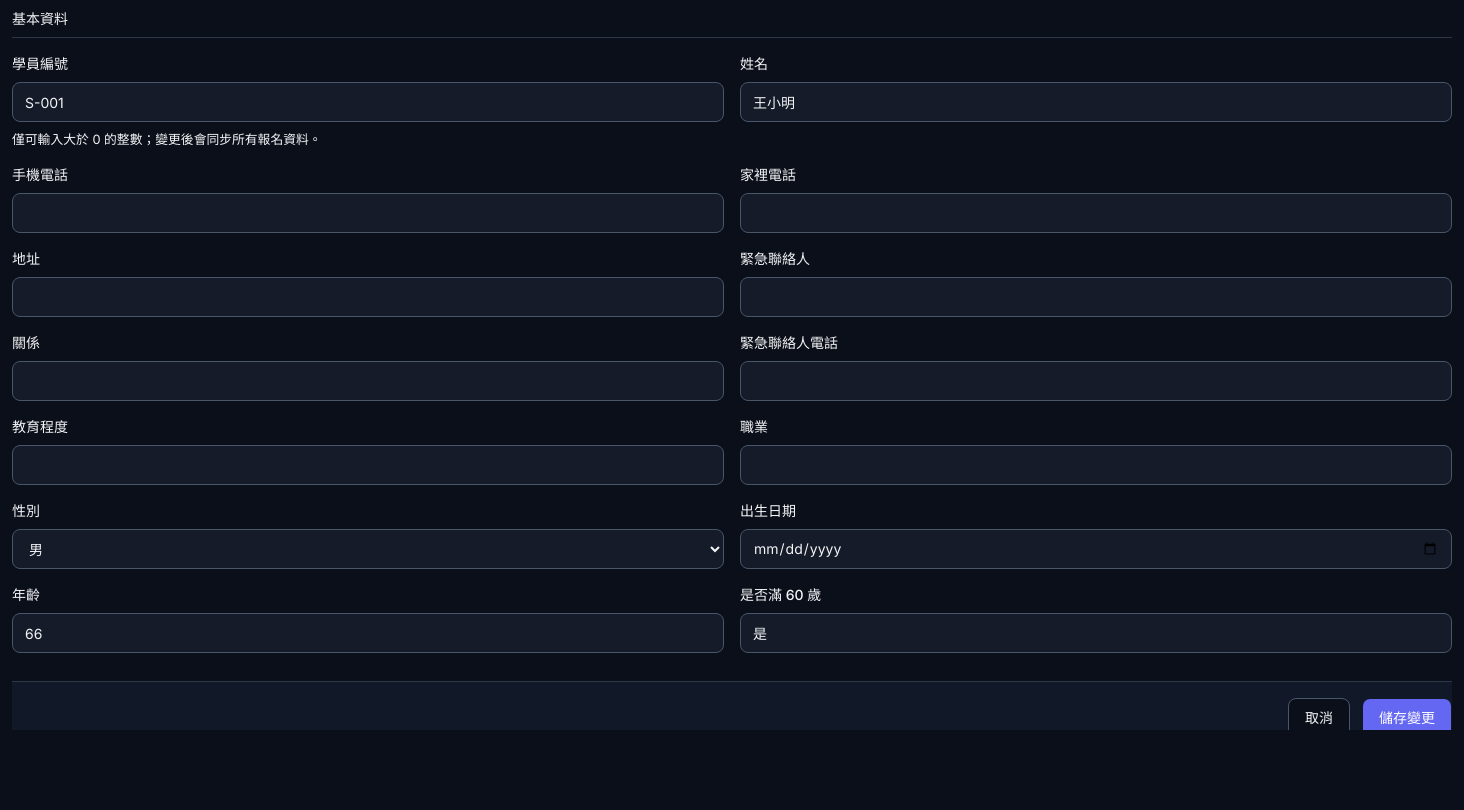
Scenario: Student detail edit forms › keeps the form and shows an inline save error
Click the button "儲存變更". click: {"x": 1407, "y": 718}
box: [1362,698,1452,738]
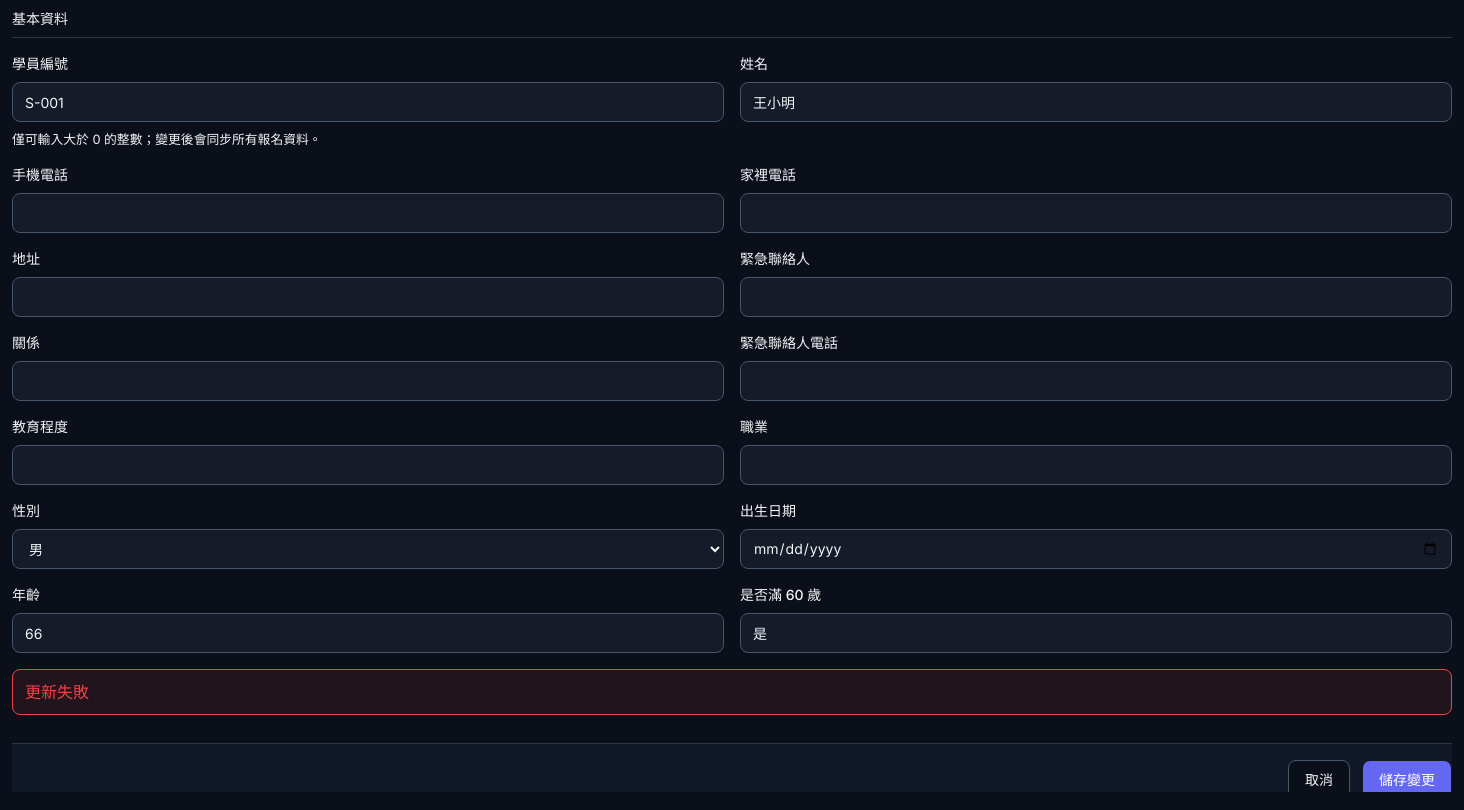
Expected: the field showing "王小明" below "姓名" is shown, [740,82,1452,122]
Expected: the message reads "更新失敗", [25,682,89,702]
